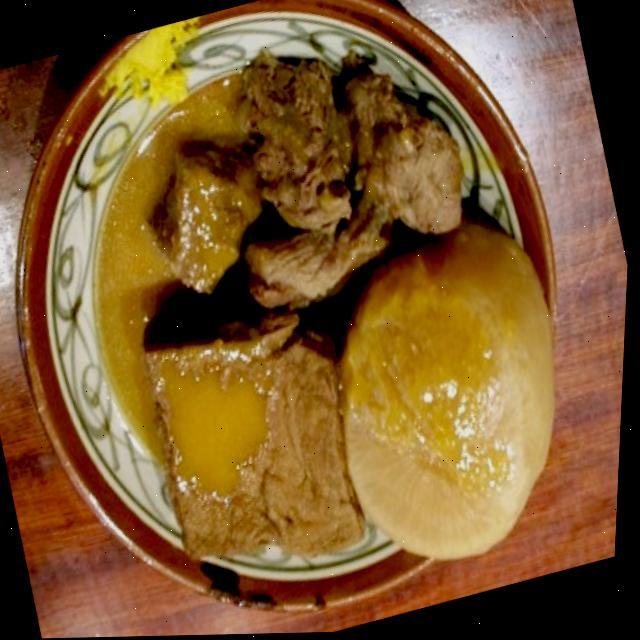汤锅炖物: (68, 0, 618, 635)
